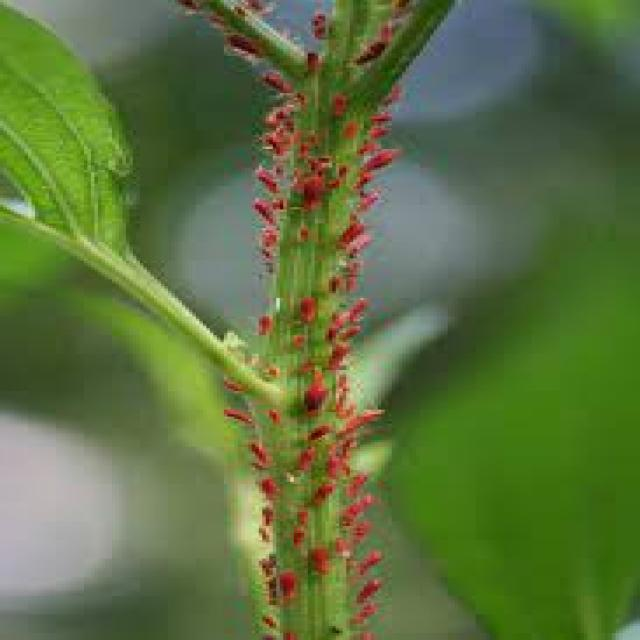aphid: (329, 512, 381, 549), (290, 379, 332, 424), (342, 573, 392, 605), (346, 545, 395, 577), (297, 540, 336, 579), (315, 335, 353, 375), (266, 566, 304, 602), (210, 401, 259, 428), (301, 477, 339, 510), (242, 307, 276, 342), (238, 435, 273, 468), (332, 498, 367, 531), (245, 470, 283, 500), (290, 291, 322, 326), (210, 370, 252, 396), (343, 598, 381, 626), (339, 293, 371, 324), (245, 552, 280, 580), (346, 488, 381, 516), (280, 521, 311, 552), (343, 465, 374, 496), (298, 416, 332, 444), (290, 440, 318, 472), (318, 451, 346, 482), (332, 319, 364, 344), (332, 428, 357, 459), (248, 521, 276, 545), (280, 328, 308, 352), (318, 268, 343, 293), (252, 500, 276, 526), (259, 403, 283, 428), (287, 503, 311, 528), (290, 356, 318, 377), (252, 610, 280, 630), (318, 321, 343, 342), (259, 361, 283, 382)
